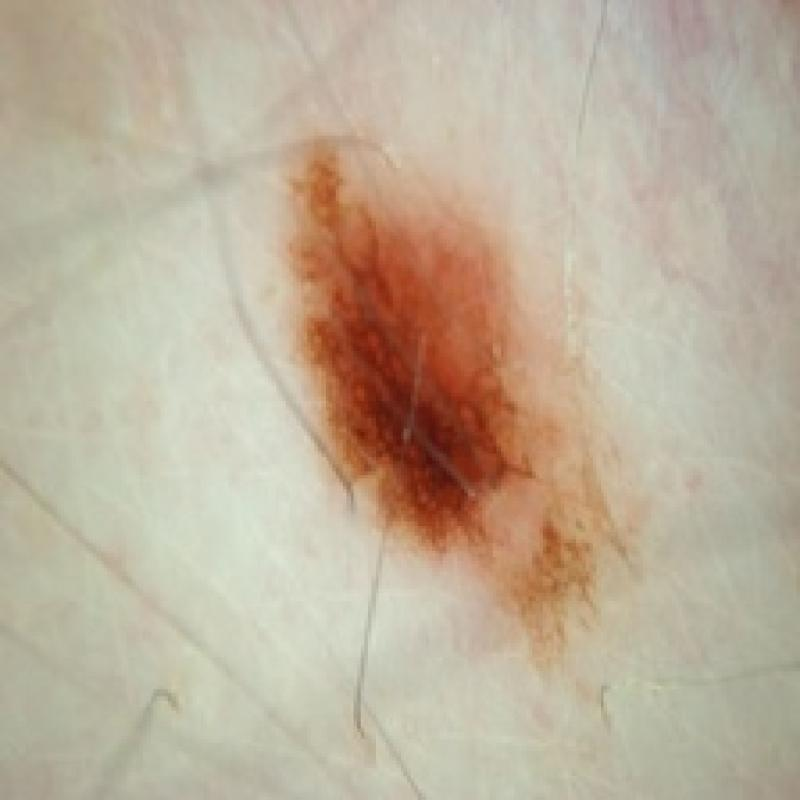malignant: (182, 104, 686, 742)
